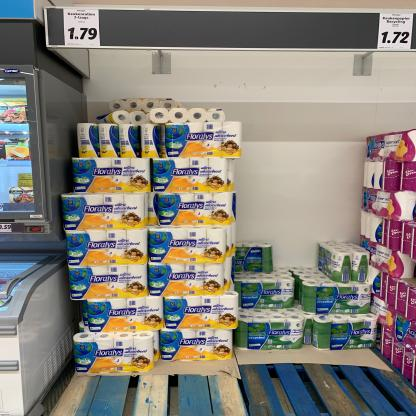prtg: (64, 10, 101, 47), (378, 14, 414, 50)
